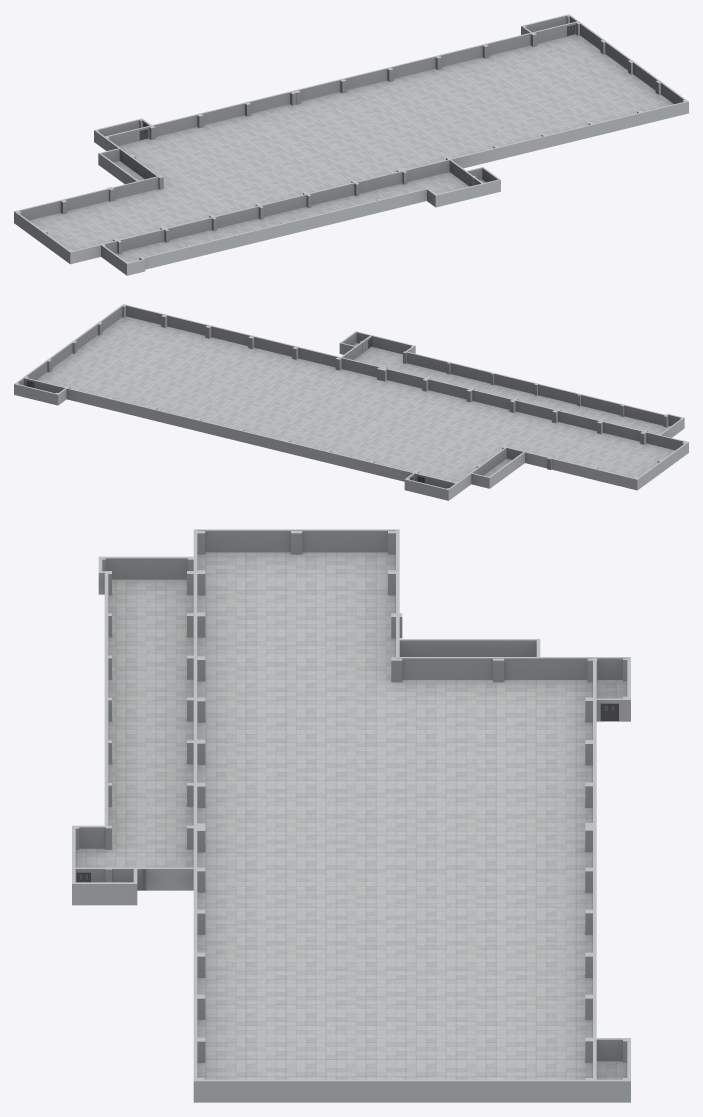
File: LXWZ_4-3F.glb
3 views of the same model, one above another, from view 1: azimuth 30°, elevation 25°; view 2: azimuth 150°, elevation 25°; view 3: azimuth 270°, elevation 25° (orthographic). The views are drawn at different scales.
Bounding box in the file's own units: 120 × 2.19 × 51.48.
Materials: 1 (1 with a texture image).
